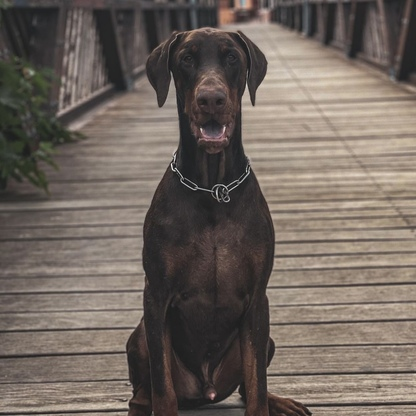doberman: (122, 26, 314, 416)
